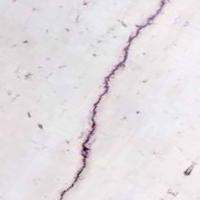crack: (54, 2, 166, 199)
